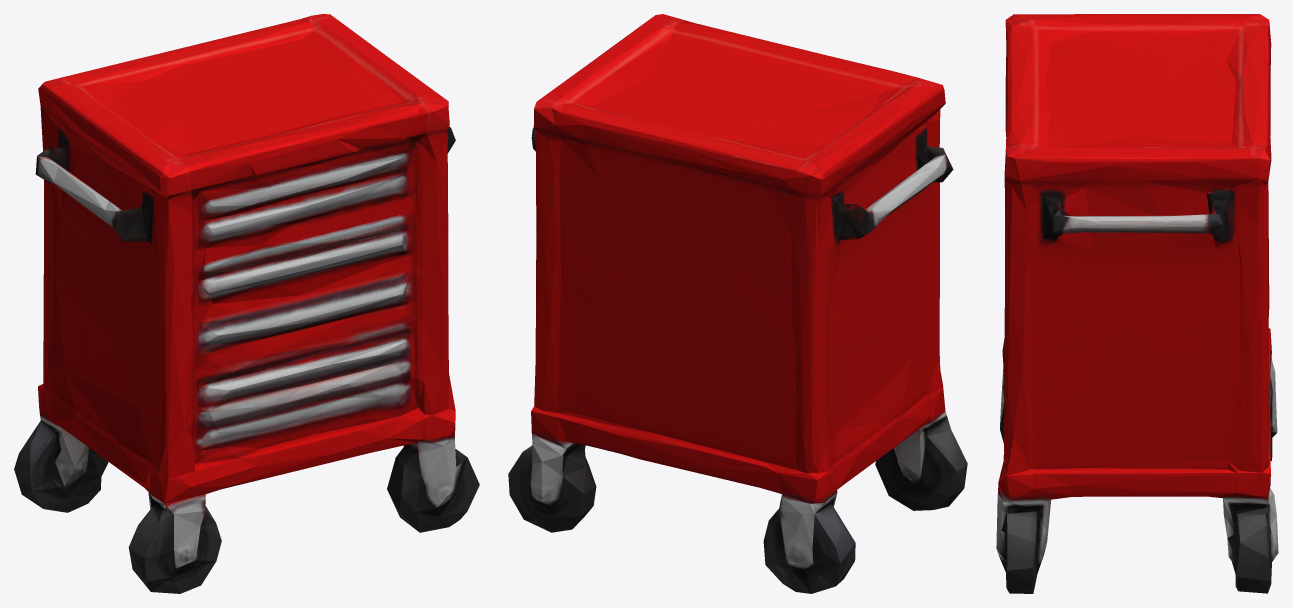
File: tool_chest.glb
3 views of the same model, side by side, from view 1: azimuth 30°, elevation 25°; view 2: azimuth 150°, elevation 25°; view 3: azimuth 270°, elevation 25° (orthographic). The views are drawn at different scales.
Parts seen in each view (by area): view 1: geometry_0; view 2: geometry_0; view 3: geometry_0.
Part boxes in pixels (box(x1,y1,x2,y2)): geometry_0: box(14, 14, 479, 593); geometry_0: box(508, 14, 967, 593); geometry_0: box(996, 14, 1278, 593).
Size of the model in its own units: 0.4187 by 0.4997 by 0.2889.
1 material, 1 textured.
